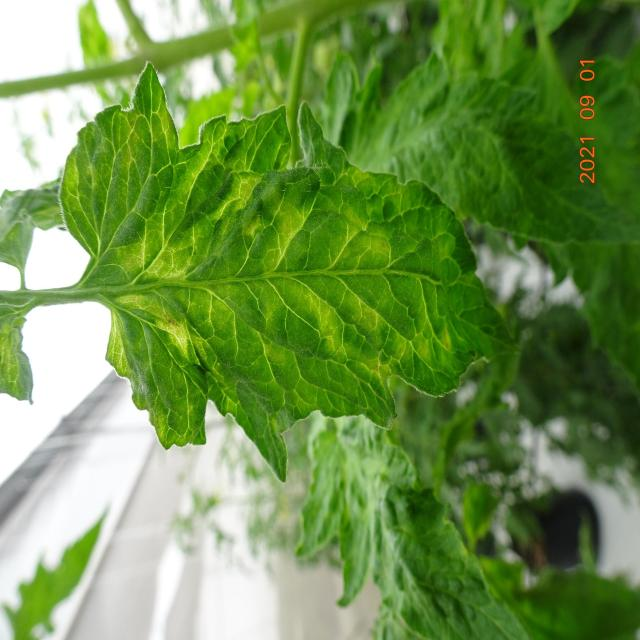T_L_R: (110, 108, 510, 478), (61, 68, 180, 288)
